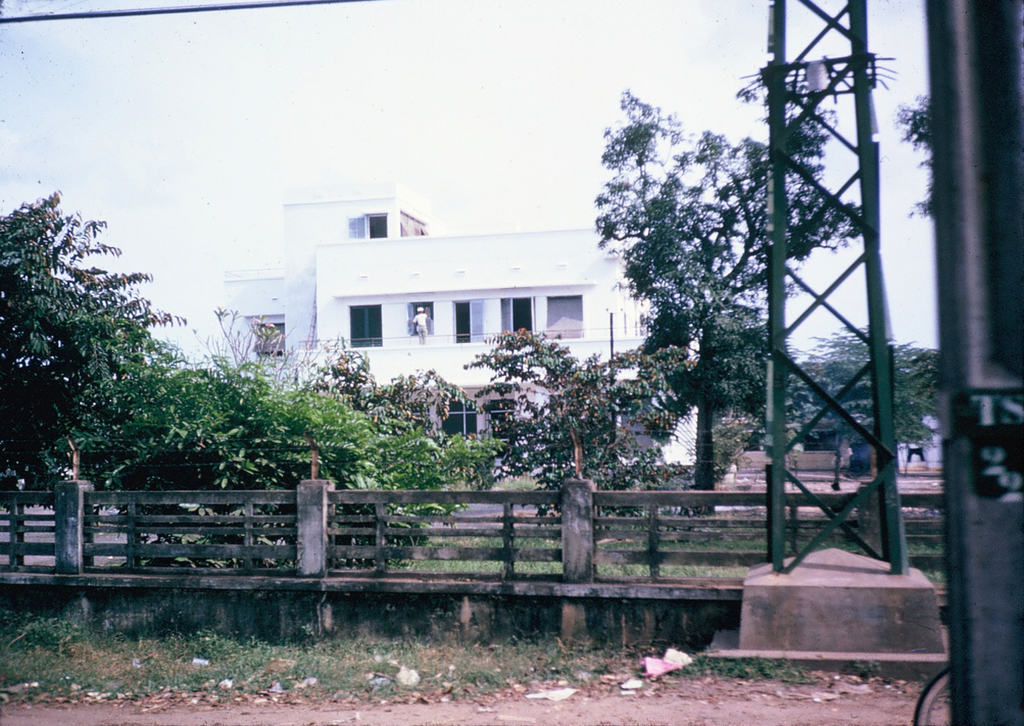Window: (341, 304, 387, 352), (500, 290, 539, 341), (445, 389, 477, 447), (544, 293, 583, 339), (453, 299, 490, 343), (345, 209, 387, 240), (254, 318, 287, 357), (490, 397, 519, 438), (398, 208, 430, 236), (414, 303, 436, 331)
